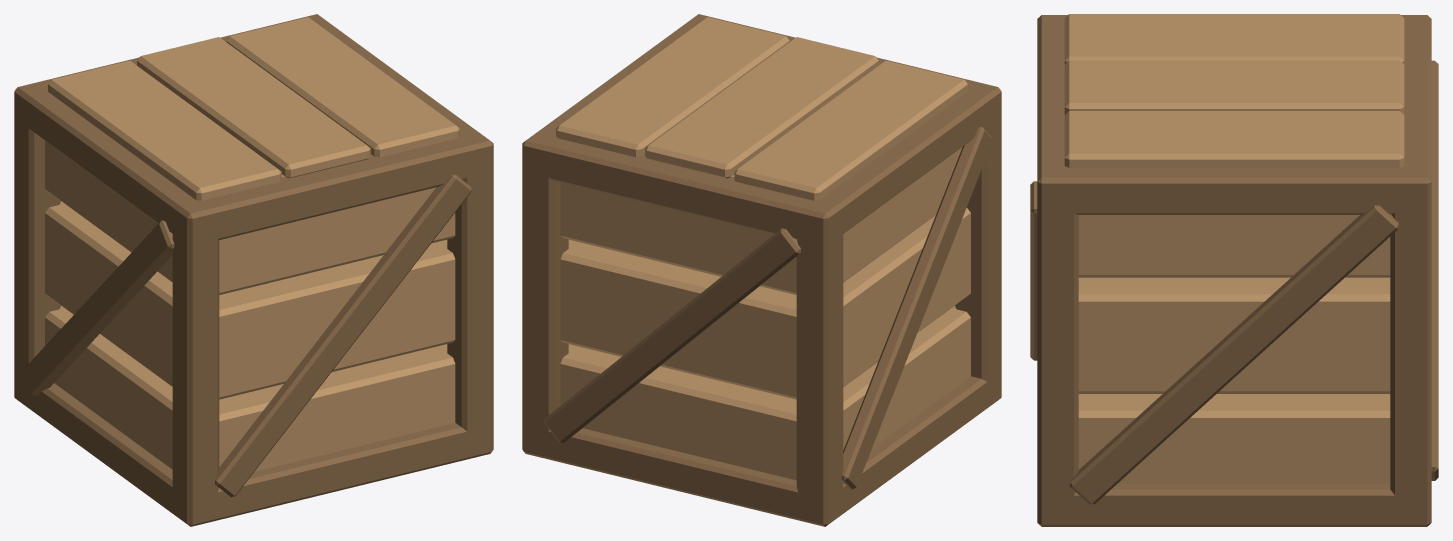
Rendered from crate.glb.
The picture shows the model from 3 angles, left to right: view 1: azimuth 30°, elevation 25°; view 2: azimuth 150°, elevation 25°; view 3: azimuth 270°, elevation 25°; orthographic projection. The views are drawn at different scales.
Visible parts, largest first — view 1: crate; view 2: crate; view 3: crate.
Part boxes in pixels (bbox=[...]): crate: bbox=[14, 14, 493, 526]; crate: bbox=[522, 14, 1001, 526]; crate: bbox=[1030, 14, 1438, 526].
Size of the model in its own units: 0.89 by 0.875 by 0.89.
